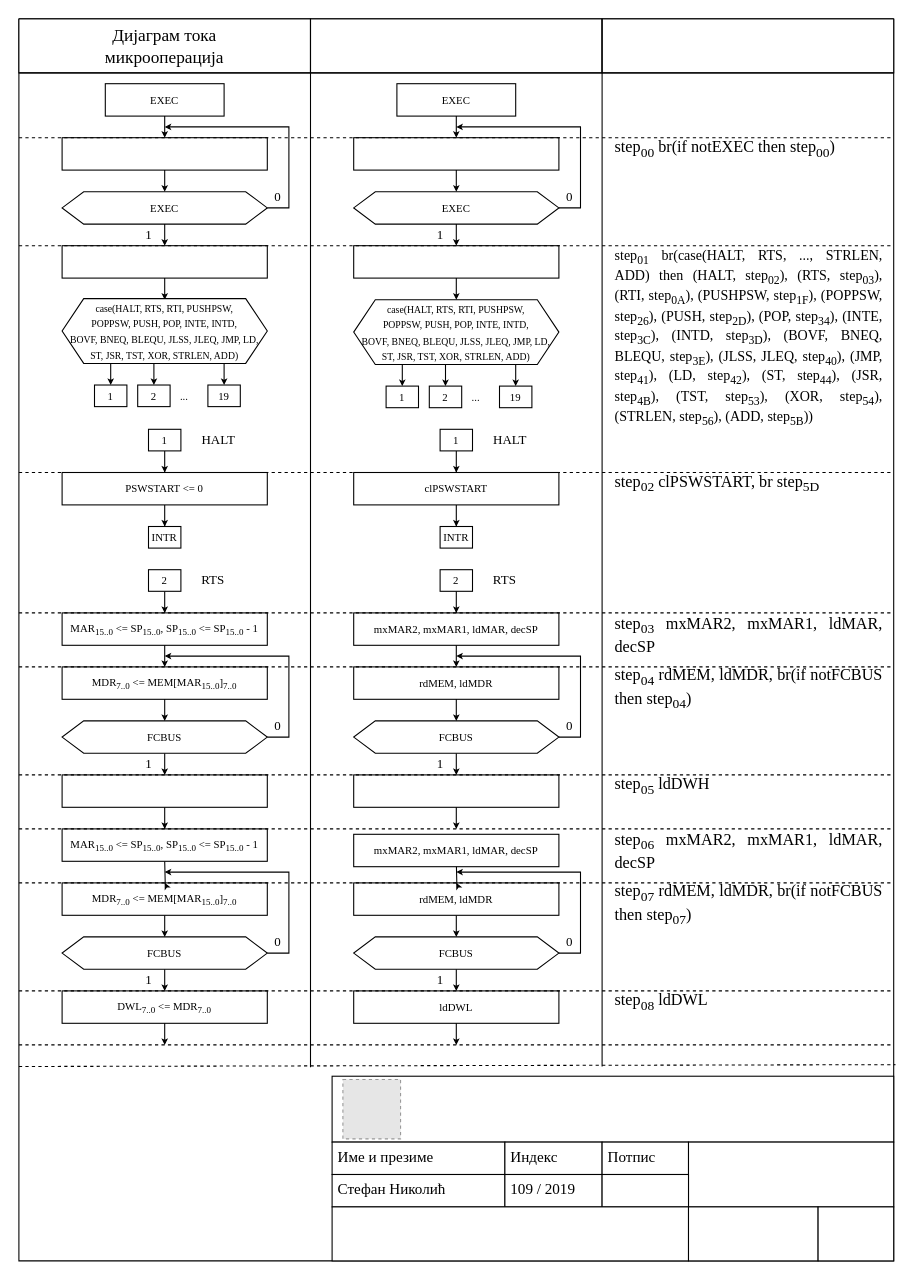
The diagram is 916 pixels wide and 1280 high, and some of its shapes have lost their labels. Grey dashed boxes stand in for pictures. Each missing label, with the box of its shape:
DWH 7..0 <= MDR 7..0: (61, 774, 267, 807)
ldDWH: (353, 774, 559, 807)
Датум 25.09.2021.: (687, 1206, 818, 1261)
Дијаграм тока управљачких сигнала: (309, 18, 602, 73)
Назив Основи рачунарске технике 2: (331, 1206, 688, 1261)
Пројекат Задатак 209: (687, 1141, 894, 1207)
Секвенца управљачких сигнала: (601, 18, 894, 73)
Страна 7: (817, 1206, 894, 1261)
Универзитет у Београду Електротехнички факултет: (331, 1075, 894, 1142)
